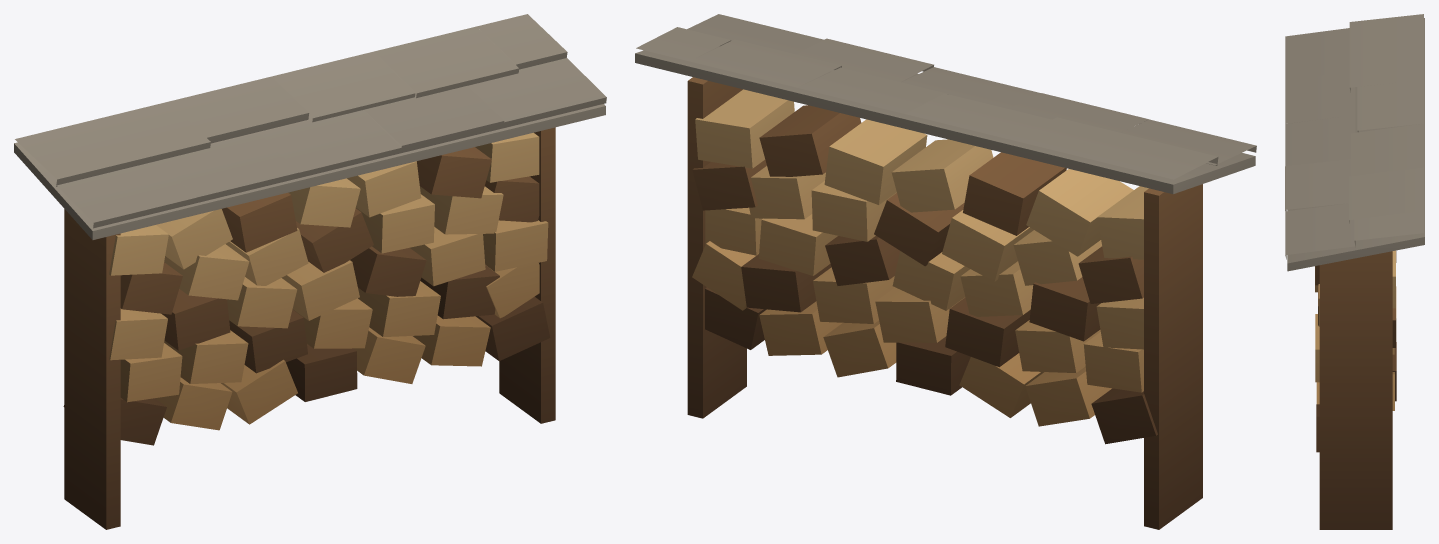
Rendered from WoodPile.fbx.
3 renders of one model, left to right at view 1: azimuth 30°, elevation 25°; view 2: azimuth 150°, elevation 25°; view 3: azimuth 270°, elevation 25°, orthographic. The views are drawn at different scales.
Parts seen in each view (by area): view 1: WoodPile_LOD0; view 2: WoodPile_LOD0; view 3: WoodPile_LOD0.
Boxes of the visible parts, x1=… form: WoodPile_LOD0: x1=14, y1=14, x2=606, y2=529; WoodPile_LOD0: x1=635, y1=14, x2=1256, y2=529; WoodPile_LOD0: x1=1285, y1=14, x2=1424, y2=529.
Size of what is drawn, in the model's own units: 3.54 by 2.34 by 0.9556.
1 material, 1 textured.
